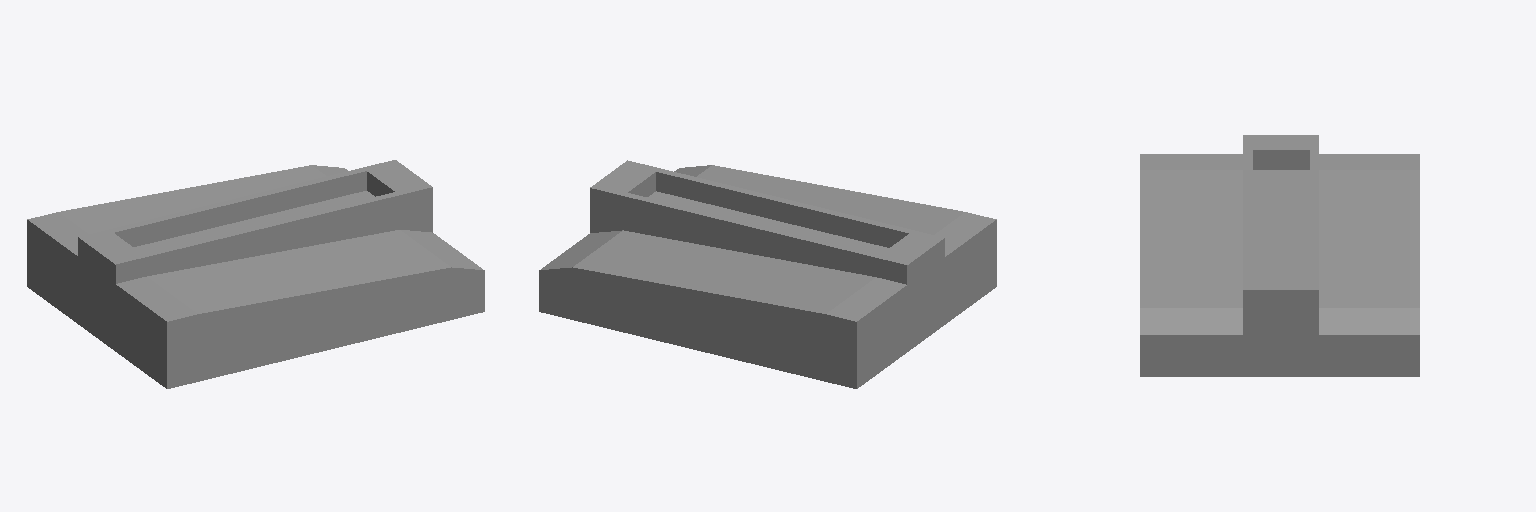
Rendered from slot.obj.
3 renders of one model, left to right at view 1: azimuth 30°, elevation 25°; view 2: azimuth 150°, elevation 25°; view 3: azimuth 270°, elevation 25°, orthographic.
Parts seen in each view (by area): view 1: Cube; view 2: Cube; view 3: Cube.
Part boxes in pixels (left/top/right/bottom): Cube: left=27, top=160, right=484, bottom=388; Cube: left=539, top=160, right=996, bottom=388; Cube: left=1140, top=135, right=1419, bottom=376.
Size of the model in its own units: 2.62 by 0.6868 by 2.